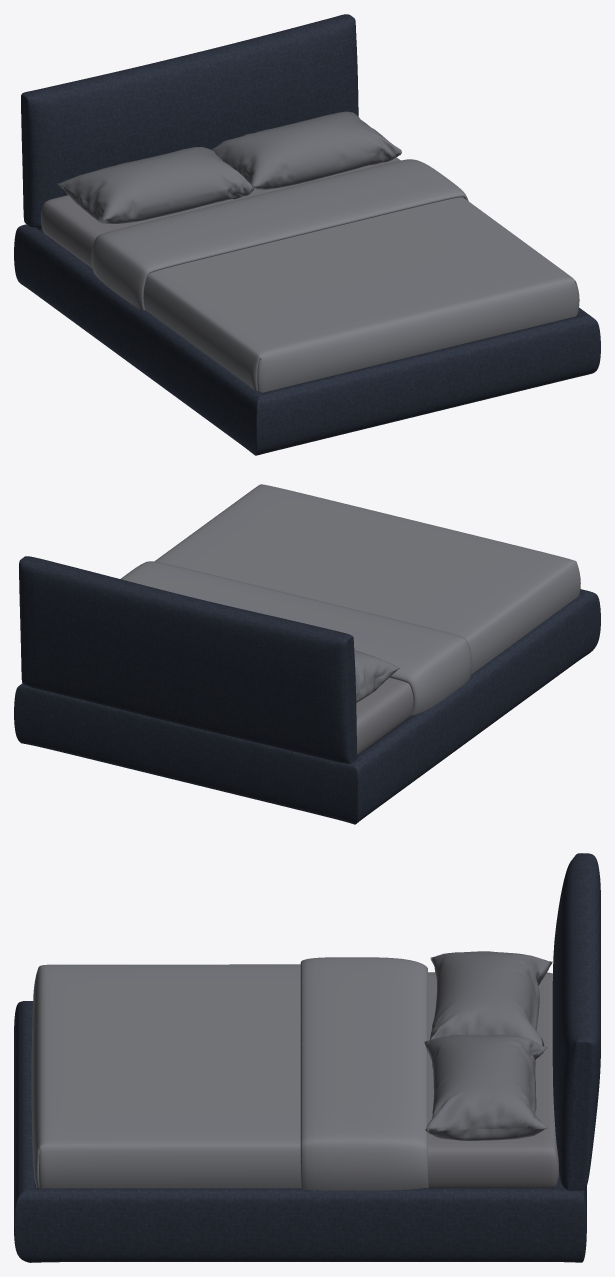
The model's file is soho_bed.glb.
The picture shows the model from 3 angles, top to bottom: view 1: azimuth 30°, elevation 25°; view 2: azimuth 150°, elevation 25°; view 3: azimuth 270°, elevation 25°; orthographic projection. The views are drawn at different scales.
Parts seen in each view (by area): view 1: Object_2, Object_3, Object_5, Object_4; view 2: Object_2, Object_3, Object_4, Object_5; view 3: Object_3, Object_2, Object_5, Object_4.
Part boxes in pixels (x1=…): Object_2: x1=14, y1=14, x2=600, y2=455; Object_3: x1=91, y1=159, x2=579, y2=392; Object_5: x1=57, y1=111, x2=401, y2=223; Object_4: x1=41, y1=157, x2=400, y2=268; Object_2: x1=14, y1=556, x2=600, y2=824; Object_3: x1=120, y1=484, x2=580, y2=715; Object_4: x1=356, y1=677, x2=413, y2=755; Object_5: x1=354, y1=650, x2=399, y2=702; Object_3: x1=31, y1=957, x2=428, y2=1190; Object_2: x1=14, y1=853, x2=600, y2=1262; Object_5: x1=424, y1=951, x2=552, y2=1140; Object_4: x1=428, y1=972, x2=559, y2=1187.
Bounding box in the file's own units: 1.8 × 0.9385 × 2.25.
Materials: 4 (1 with a texture image).
